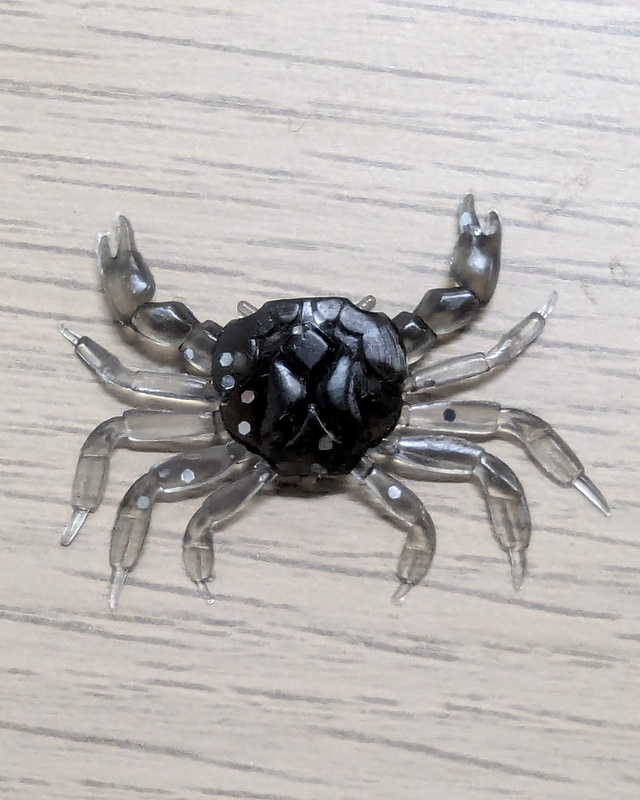crab1: (54, 190, 617, 615)
